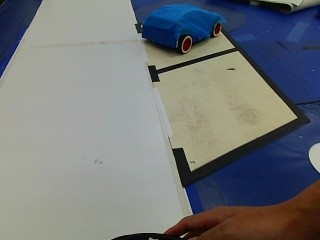car: (139, 4, 225, 56)
